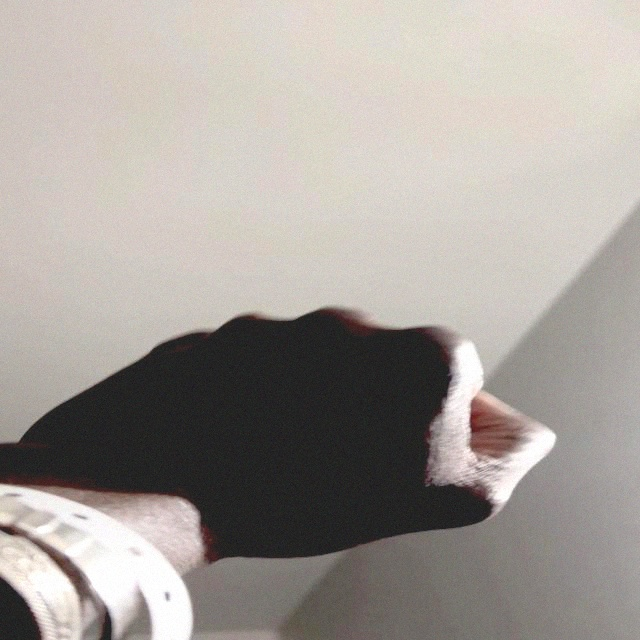Rock: (3, 302, 572, 558)
